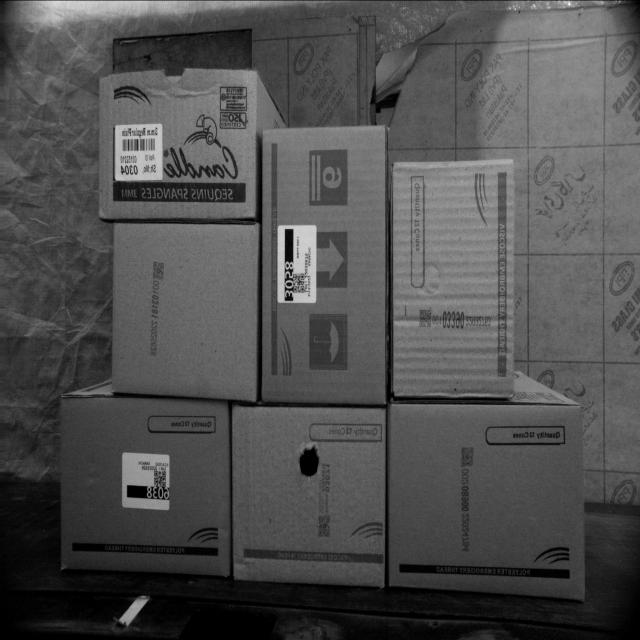cardboxes: (388, 403, 584, 598), (262, 118, 388, 401), (56, 390, 230, 573), (390, 156, 512, 400), (232, 404, 386, 583), (111, 218, 260, 397), (95, 68, 257, 220)
